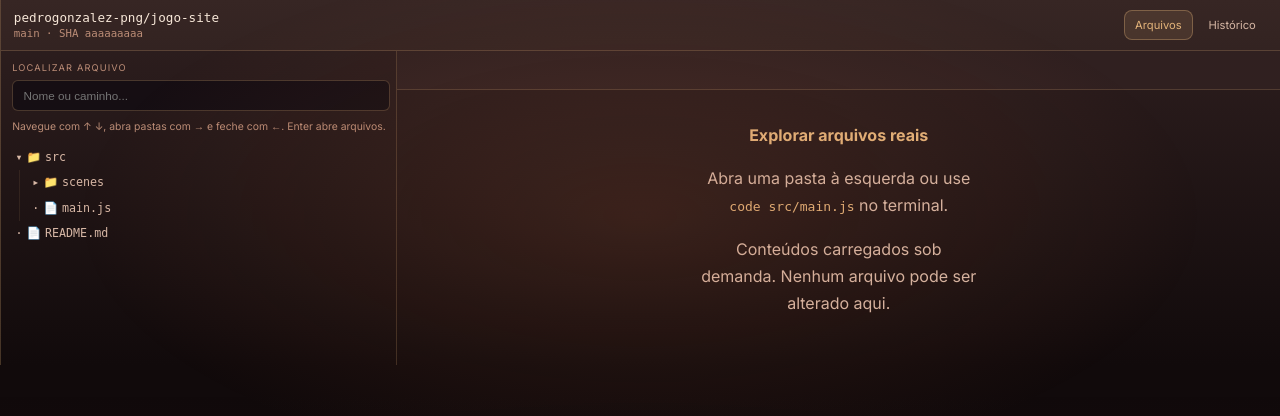
it: readonly GitHub explorer UI › shows only provisional selected milestones separately from Git history
Click the button "Histórico". click: (1232, 25)
box: top-left (1197, 10), bottom-right (1267, 40)
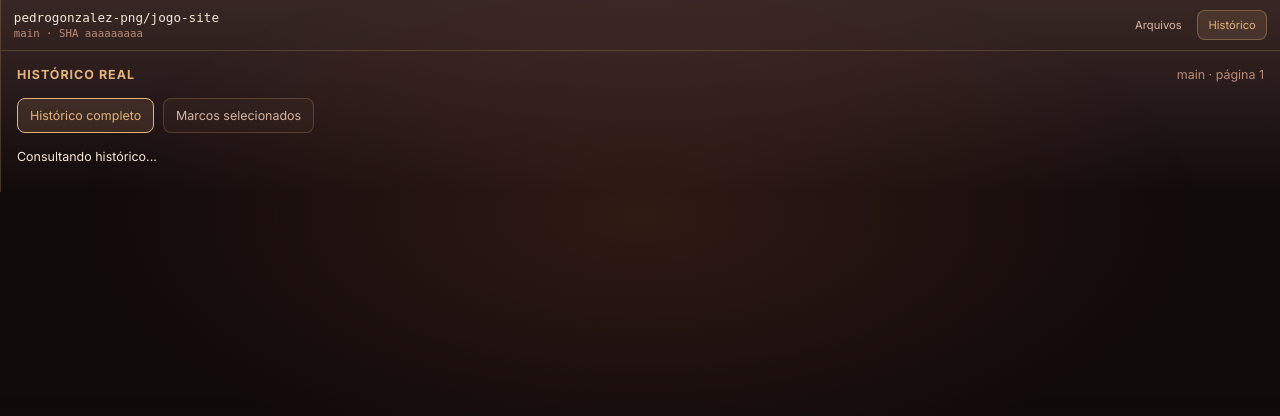
Click the button "Marcos selecionados". click: (239, 115)
box: top-left (163, 98), bottom-right (314, 133)
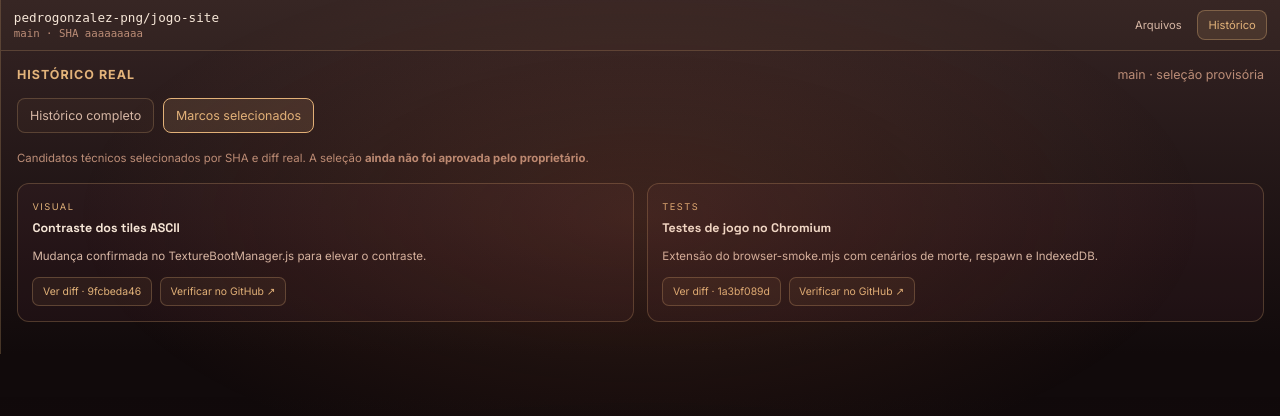
expect the text "ainda não foi aprovada pelo proprietário" is shown: met, box top-left (365, 151), bottom-right (585, 165)
expect the text "Contraste dos tiles ASCII" is shown: met, box top-left (32, 220), bottom-right (180, 236)
Click the button "Histórico completo". click: (86, 115)
box: top-left (17, 98), bottom-right (154, 133)
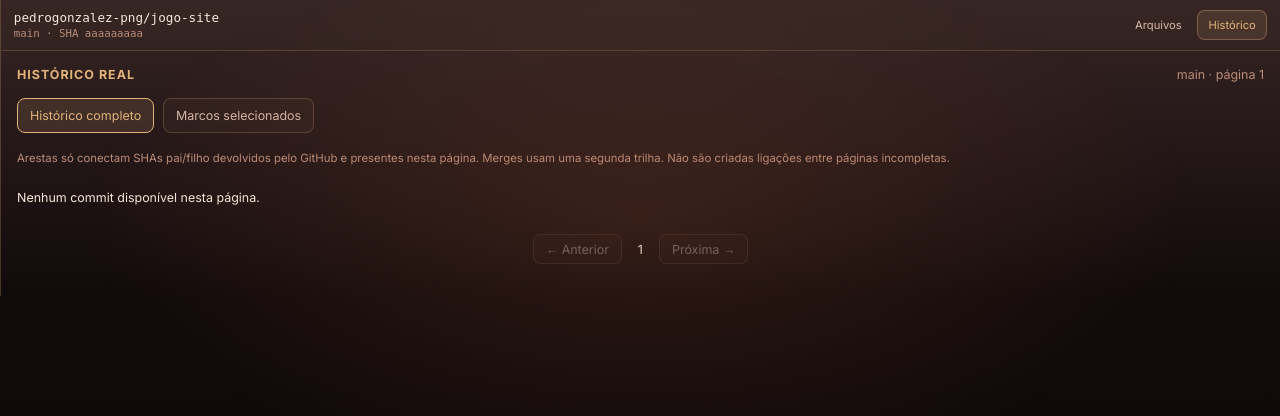
expect the text "Arestas só conectam SHAs" is shown: met, box top-left (17, 151), bottom-right (950, 165)
